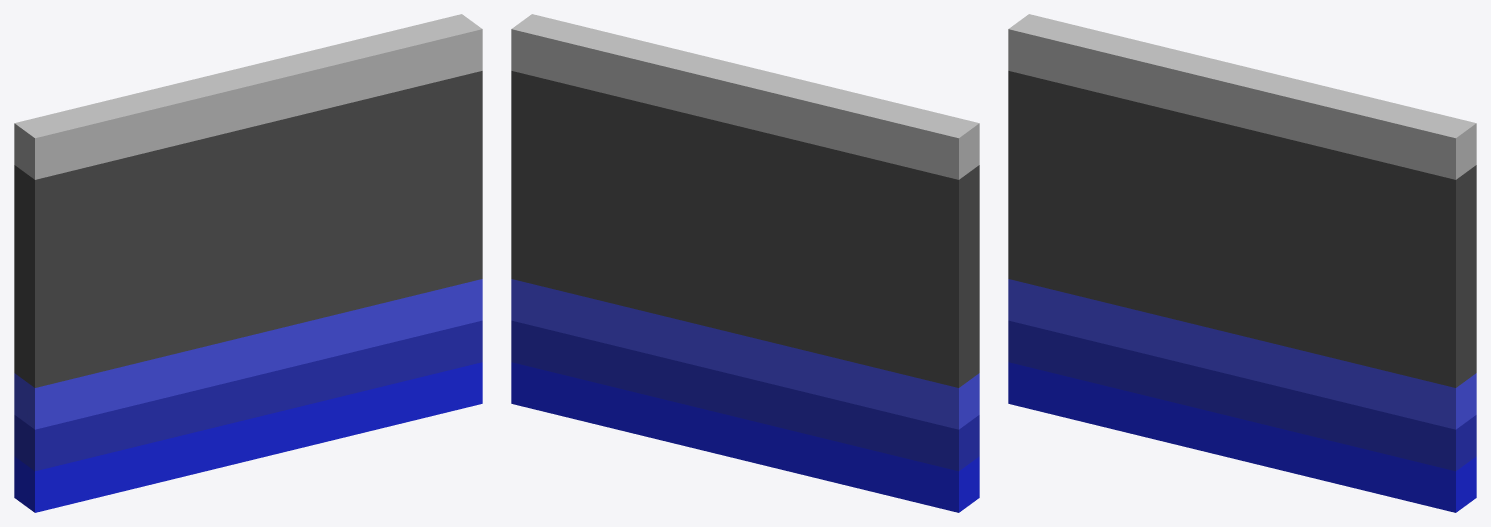
Rendered from Ścciana.fbx.
3 renders of one model, left to right at view 1: azimuth 30°, elevation 25°; view 2: azimuth 150°, elevation 25°; view 3: azimuth 330°, elevation 25°, orthographic.
Visible parts, largest first — view 1: Sześcian; view 2: Sześcian; view 3: Sześcian.
Part boxes in pixels (bbox=[...]): Sześcian: bbox=[14, 14, 482, 512]; Sześcian: bbox=[511, 14, 979, 512]; Sześcian: bbox=[1008, 14, 1476, 512].
Bounding box in the file's own units: 500 × 400 × 40.
